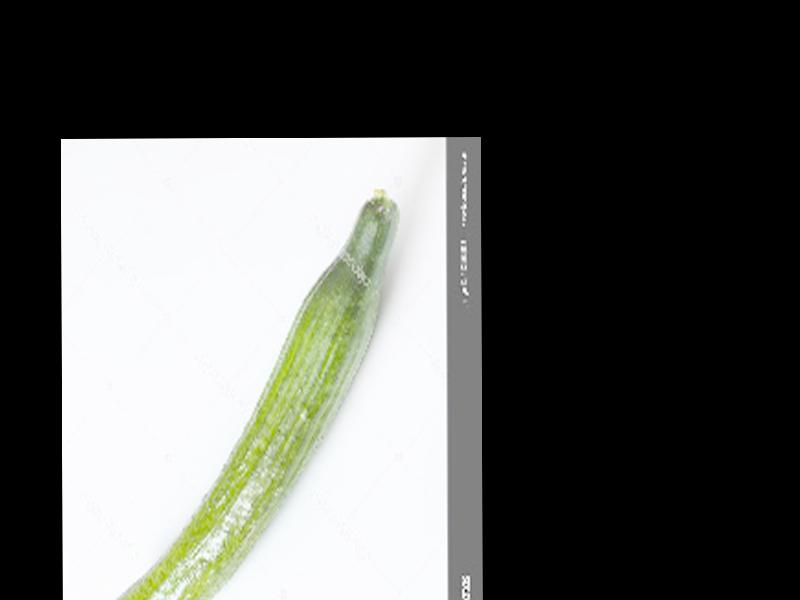Cucumber: (109, 188, 398, 600)
